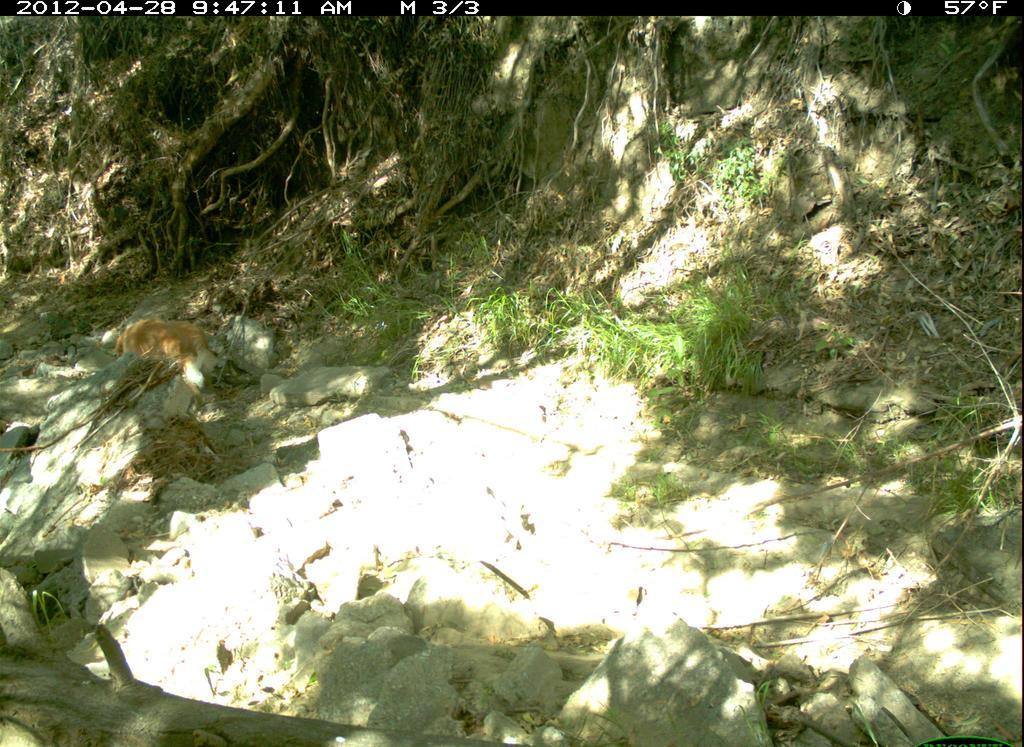dog: (107, 309, 242, 405)
